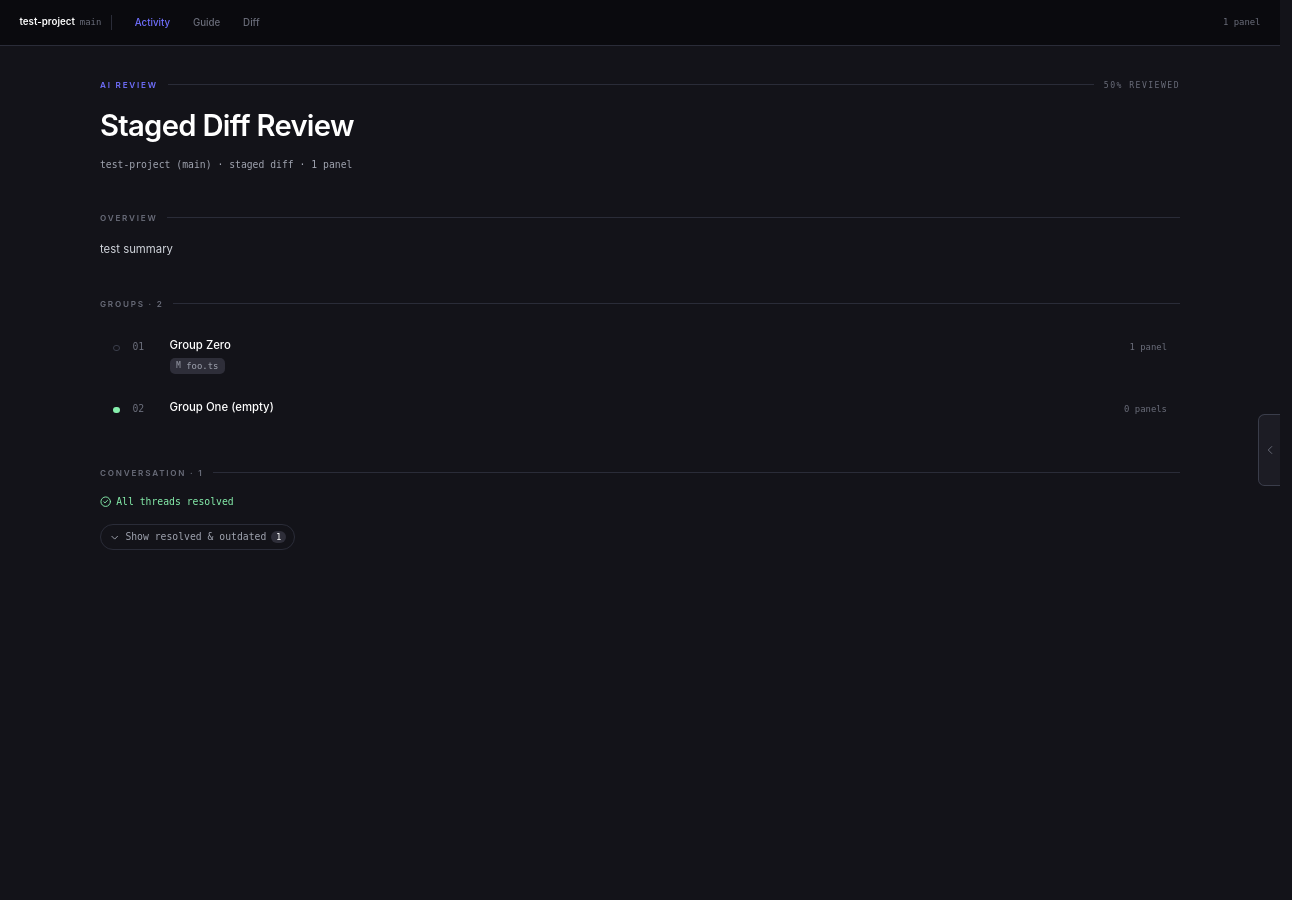
it: resolved スレッドへの返信 › resolved スレッドに返信すると open に戻り active 群へ再分類される
The width and height of the screenshot is (1292, 900).
Expected: the text "All threads resolved" is shown, [116, 495, 234, 508]
Click the button "Show resolved & outdated1": click(198, 537) [100, 524, 295, 550]
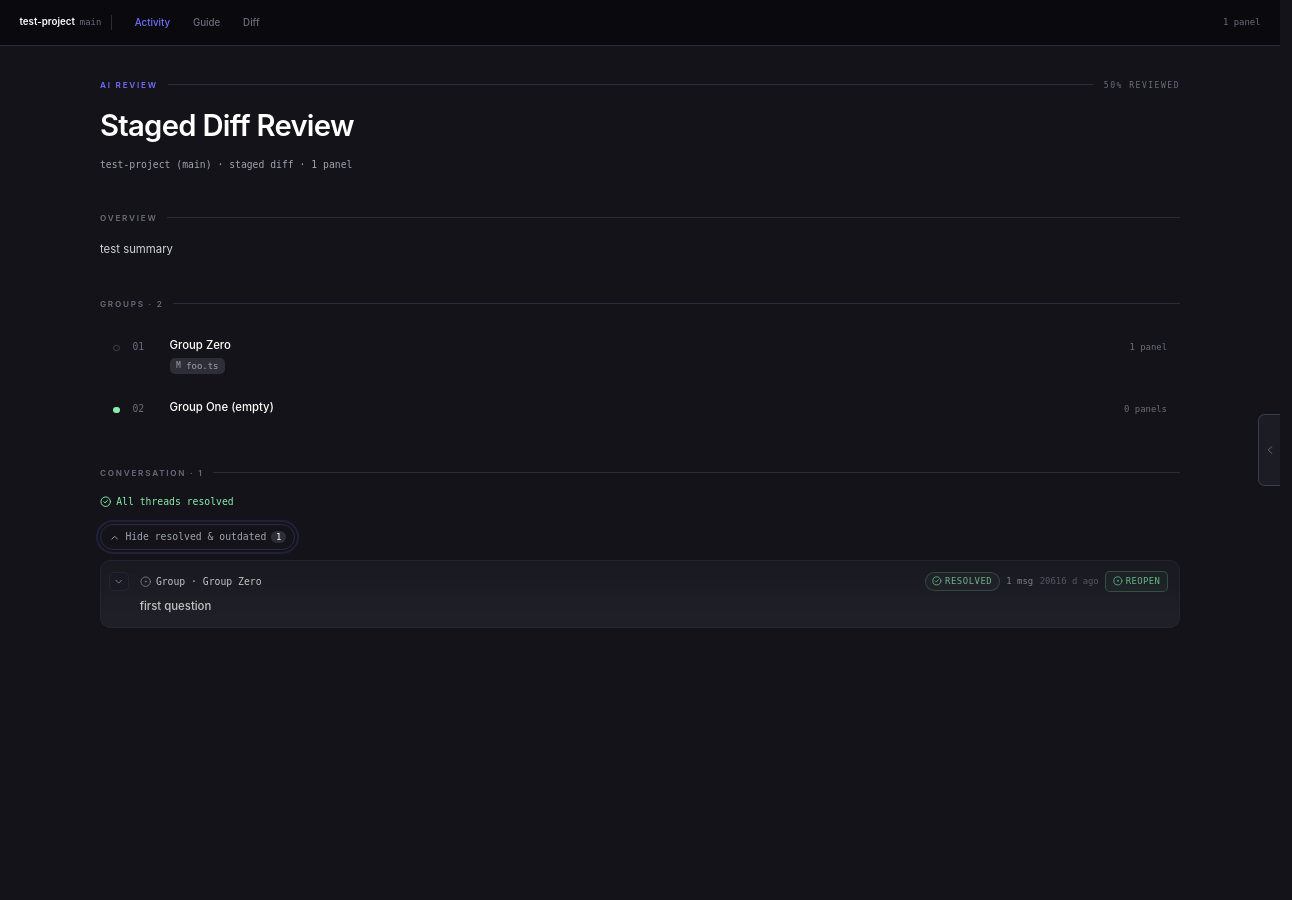
Note: resolved variant は初期 collapsed なので expand してから返信する
Click the button named "Expand thread": click(119, 581) [109, 572, 129, 591]
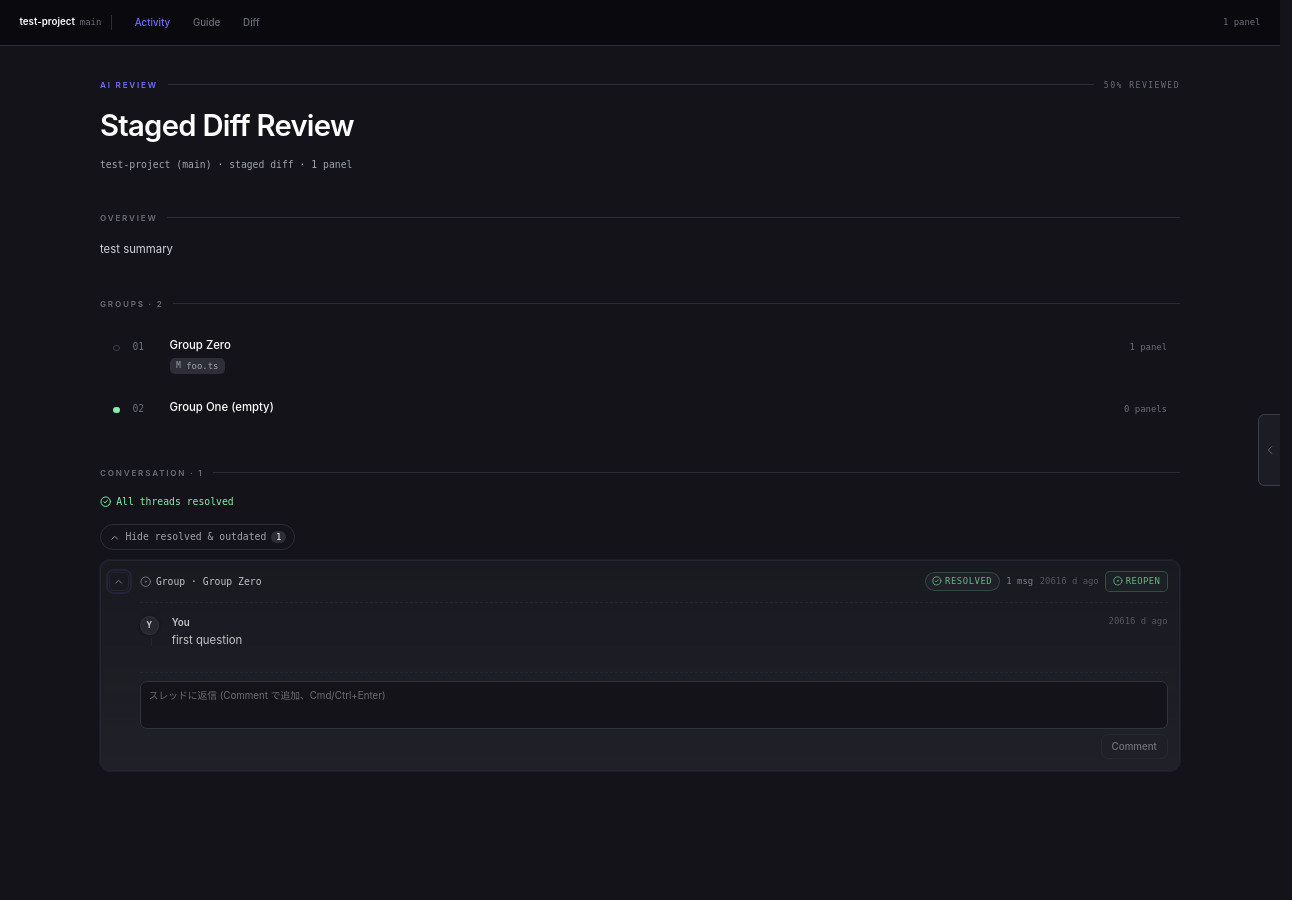
In the text box named "Reply to thread": (654, 706) [140, 682, 1168, 730], type "reopen via reply"
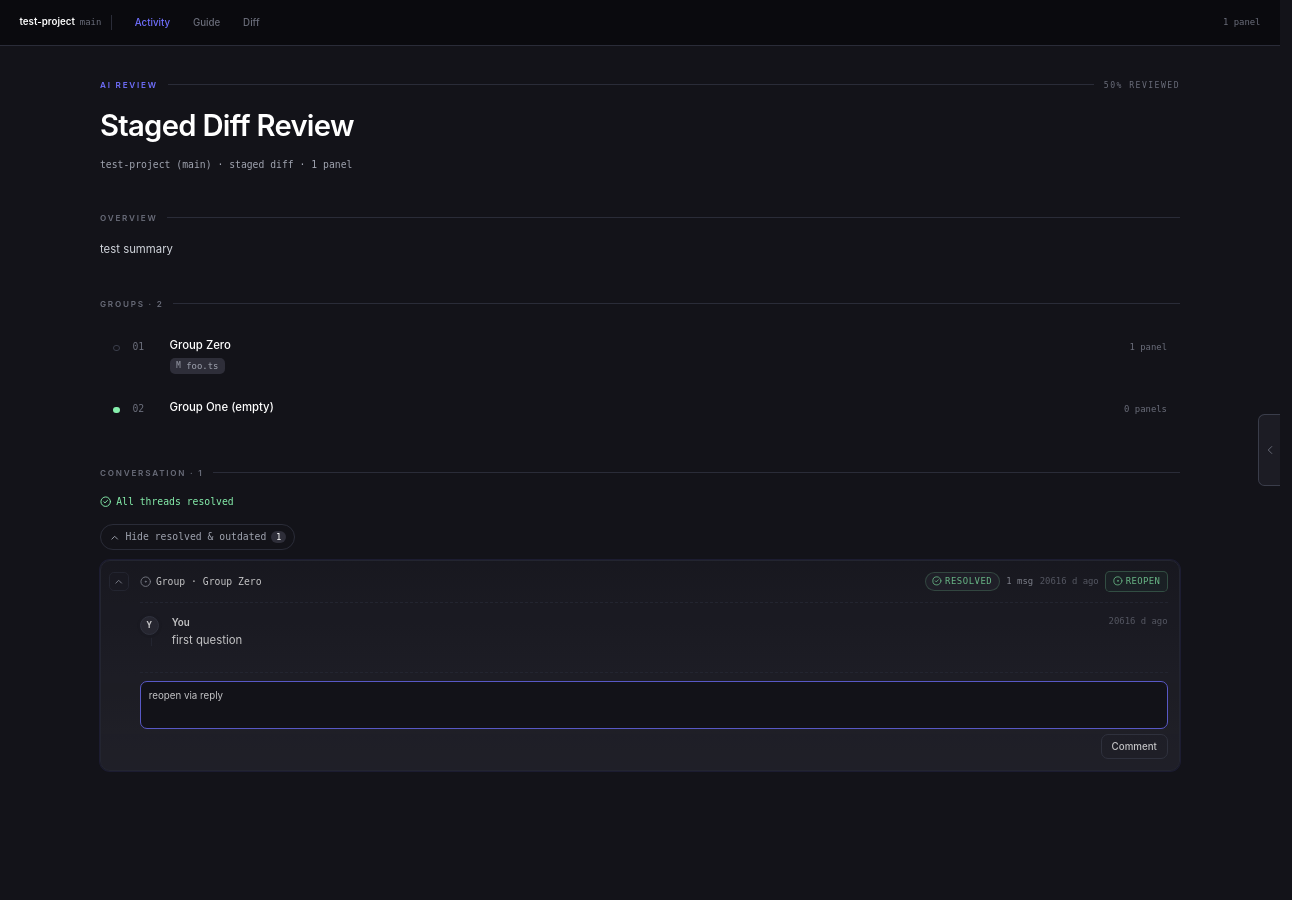
Click the button "Comment": click(1134, 747) [1101, 734, 1168, 759]
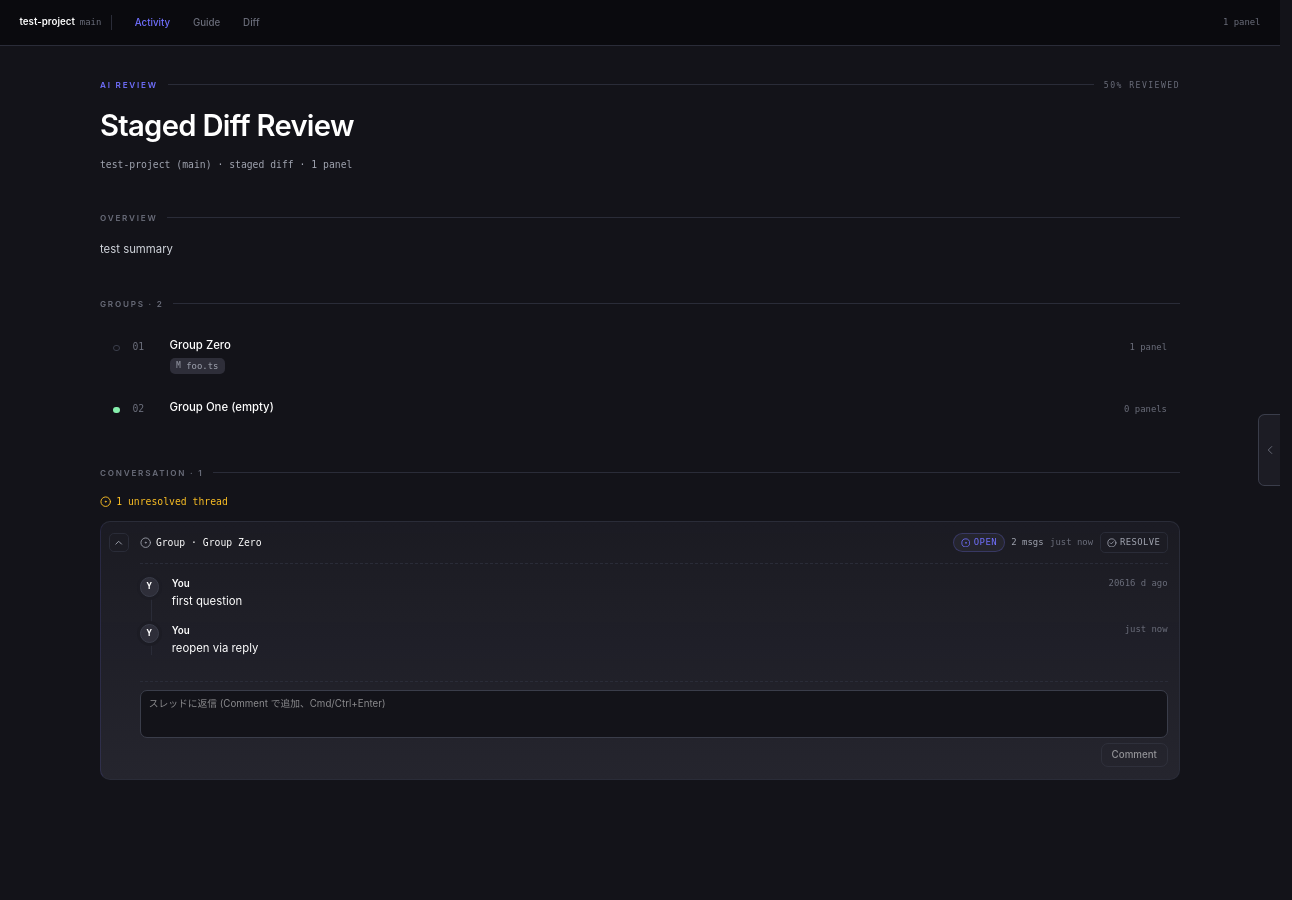
Result: the text "1 unresolved thread" is shown at [116, 495, 228, 508]
Result: the text "reopen via reply" is shown at [172, 641, 258, 655]
